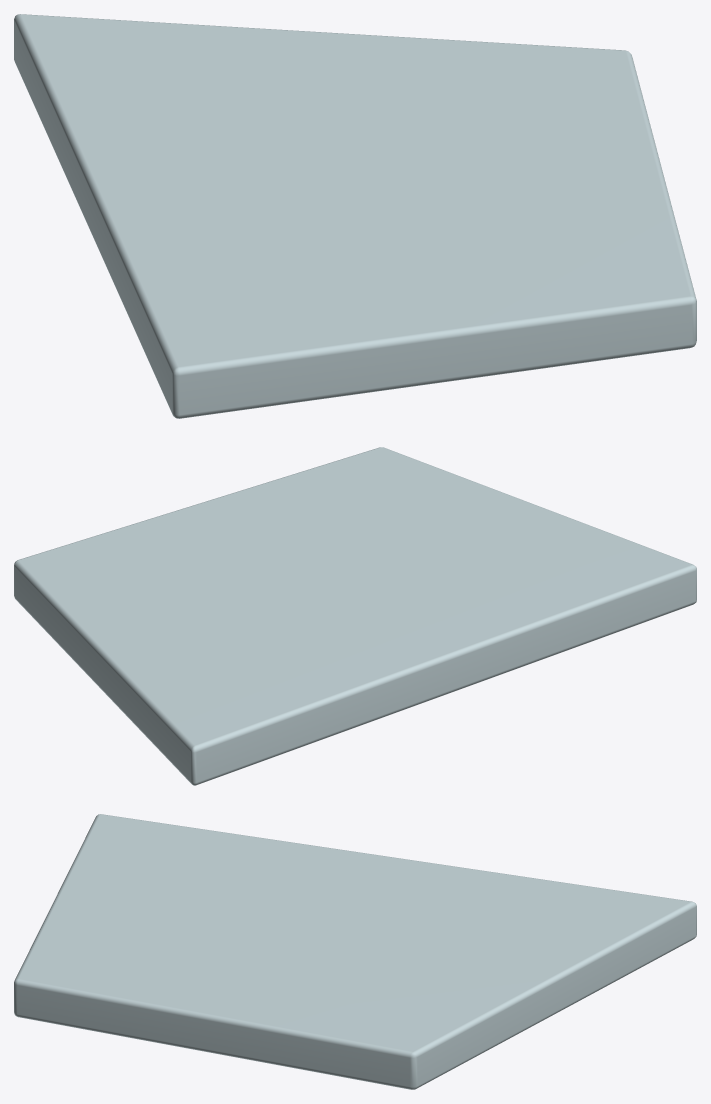
File: ZH_PROP_LAB_GlassShard_01.fbx
The picture shows the model from 3 angles, top to bottom: view 1: azimuth 30°, elevation 25°; view 2: azimuth 150°, elevation 25°; view 3: azimuth 270°, elevation 25°; orthographic projection. The views are drawn at different scales.
Parts seen in each view (by area): view 1: Shard | thick edges.005; view 2: Shard | thick edges.005; view 3: Shard | thick edges.005.
Part boxes in pixels (x1=…): Shard | thick edges.005: x1=14, y1=14, x2=696, y2=418; Shard | thick edges.005: x1=14, y1=447, x2=696, y2=785; Shard | thick edges.005: x1=14, y1=814, x2=696, y2=1089.
Bounding box in the file's own units: 0.0341 × 0.0025 × 0.0408.
